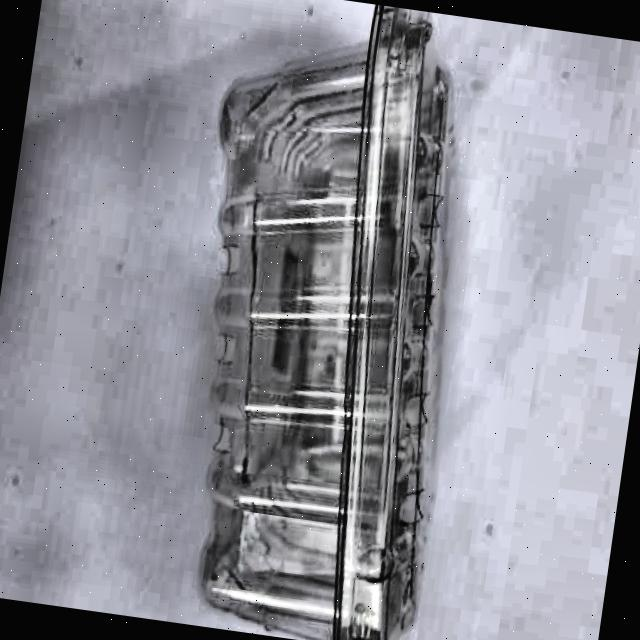plastic: (154, 0, 501, 640)
